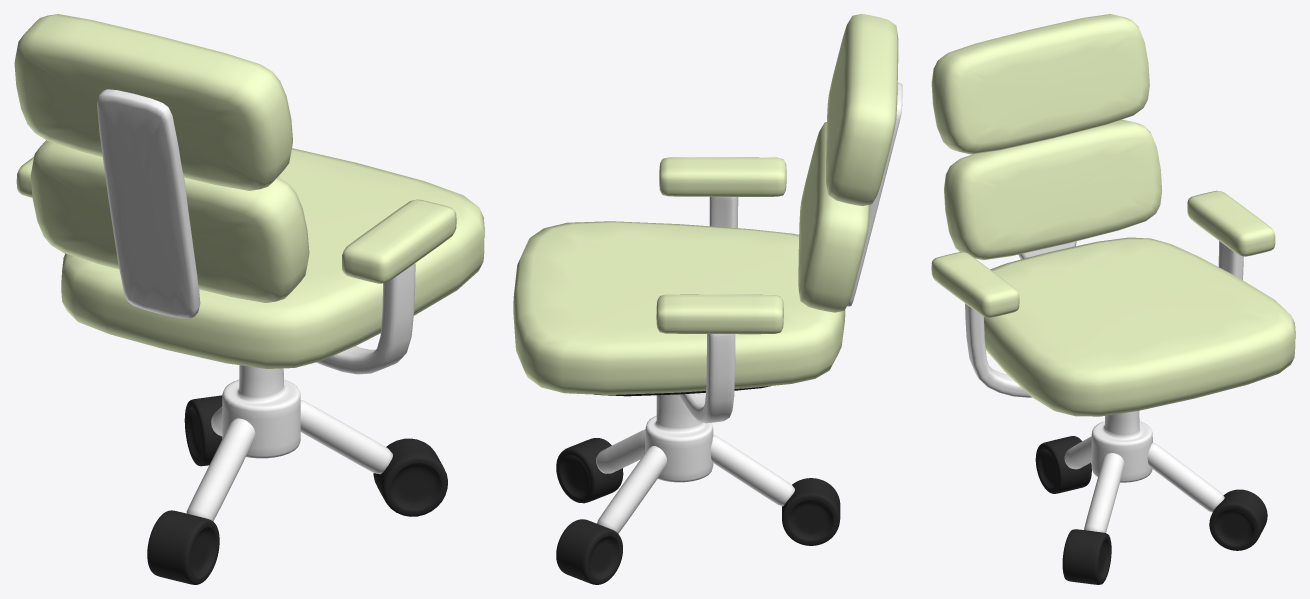
File: chair.glb
3 views of the same model, side by side, from view 1: azimuth 30°, elevation 25°; view 2: azimuth 150°, elevation 25°; view 3: azimuth 270°, elevation 25° (orthographic). The views are drawn at different scales.
Visible parts, largest first — view 1: ChairTop, ChairBottom; view 2: ChairTop, ChairBottom; view 3: ChairTop, ChairBottom.
Part boxes in pixels (x1,y1,x2,y2): ChairTop: (14,14,484,374); ChairBottom: (147,365,447,584); ChairTop: (513,14,902,423); ChairBottom: (556,394,840,584); ChairTop: (931,14,1295,416); ChairBottom: (1035,411,1267,584).
Bounding box in the file's own units: 1.46 × 1.78 × 1.34.
